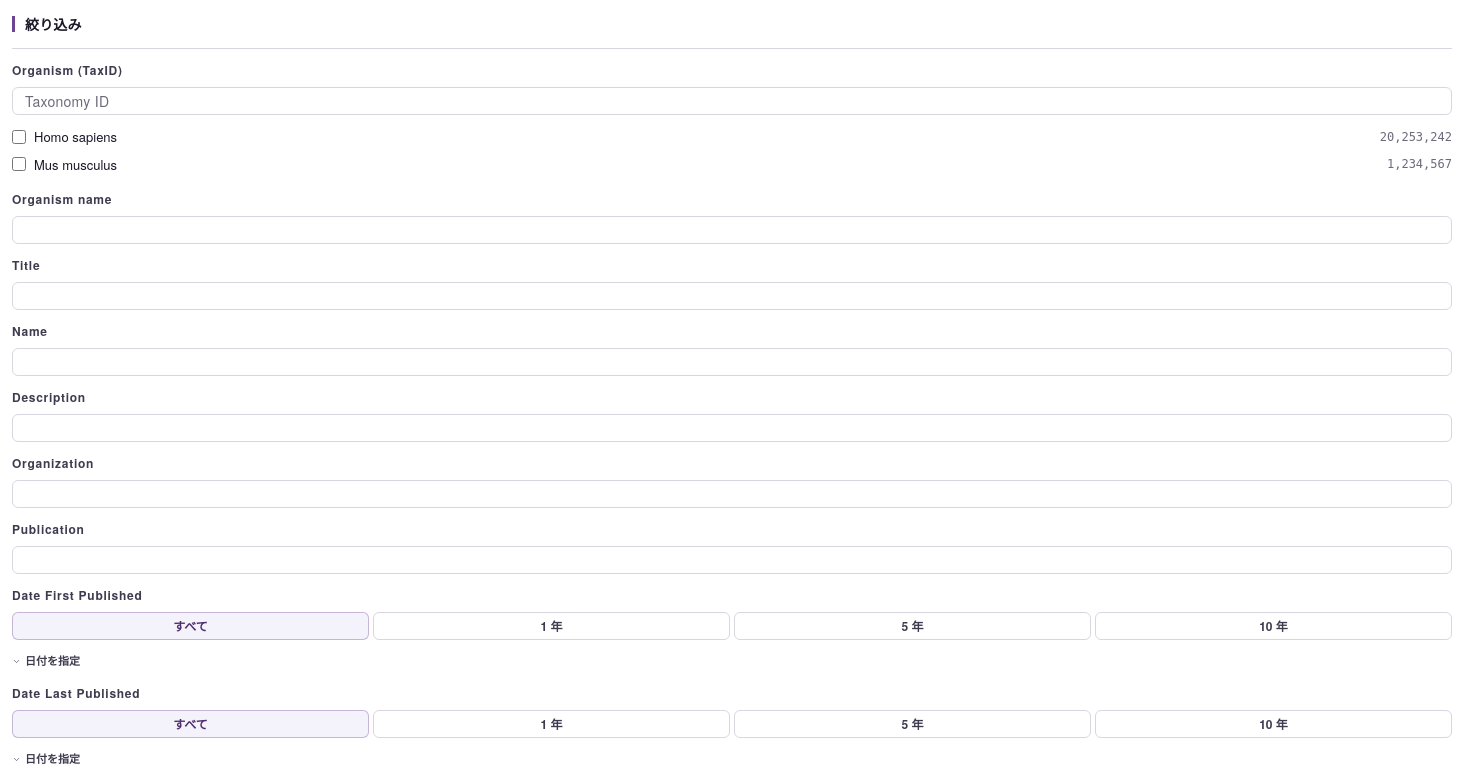
Scenario: OrganismFacetSection tax id box › typingTaxIdsChecksMatchingBuckets
The width and height of the screenshot is (1464, 783).
Type "9606, 10090" into the field labelled "Taxonomy ID" at (732,101), box [12,87,1452,115]
Wait 300 ms
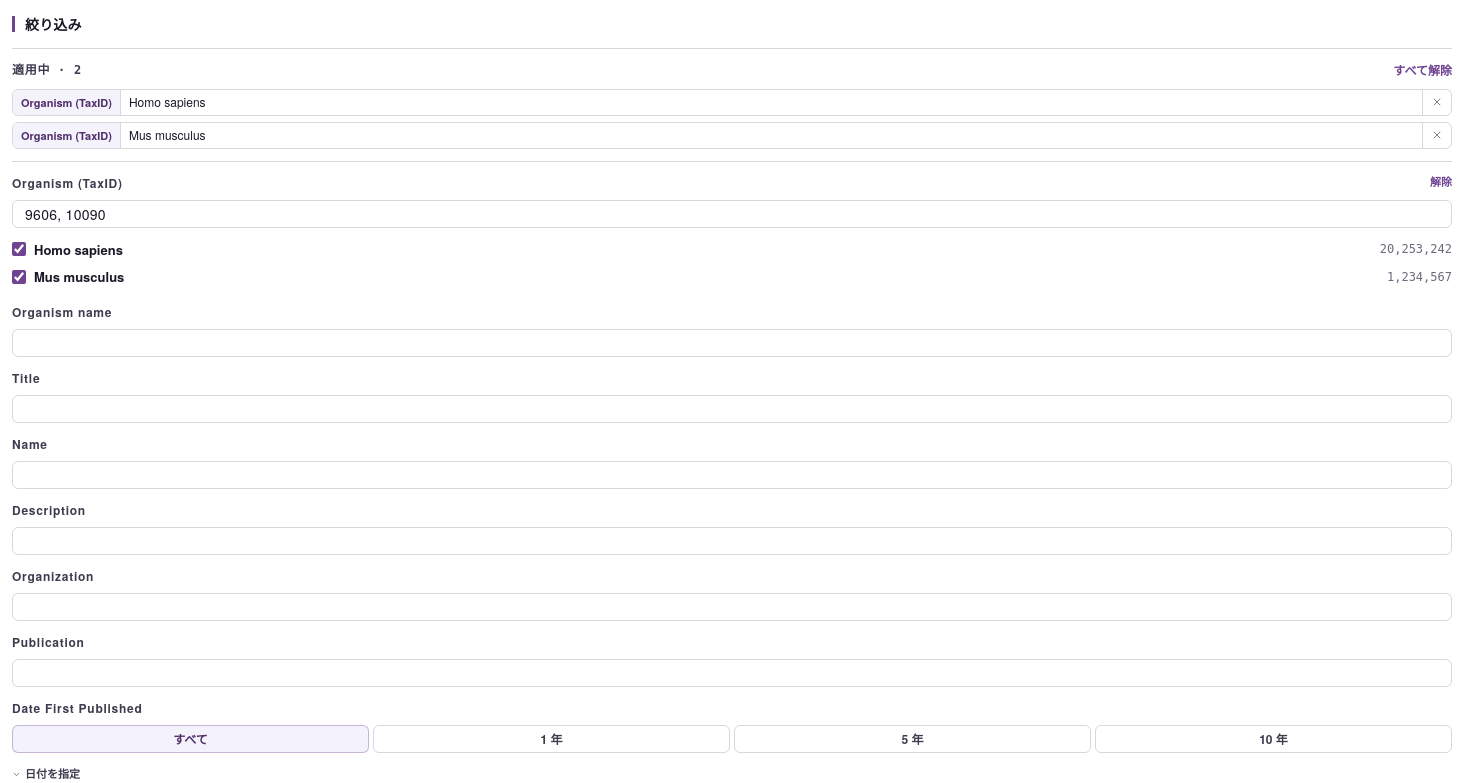
Result: the checkbox labelled "Homo sapiens 20,253,242" is checked at [12,242,26,256]
Result: the checkbox labelled "Mus musculus 1,234,567" is checked at [12,270,26,284]
